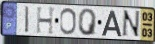A: (101, 10, 123, 37)
H: (35, 7, 57, 36)
I: (24, 5, 30, 35)
N: (121, 9, 141, 38)
O: (59, 7, 78, 36)
Q: (78, 8, 99, 37)
